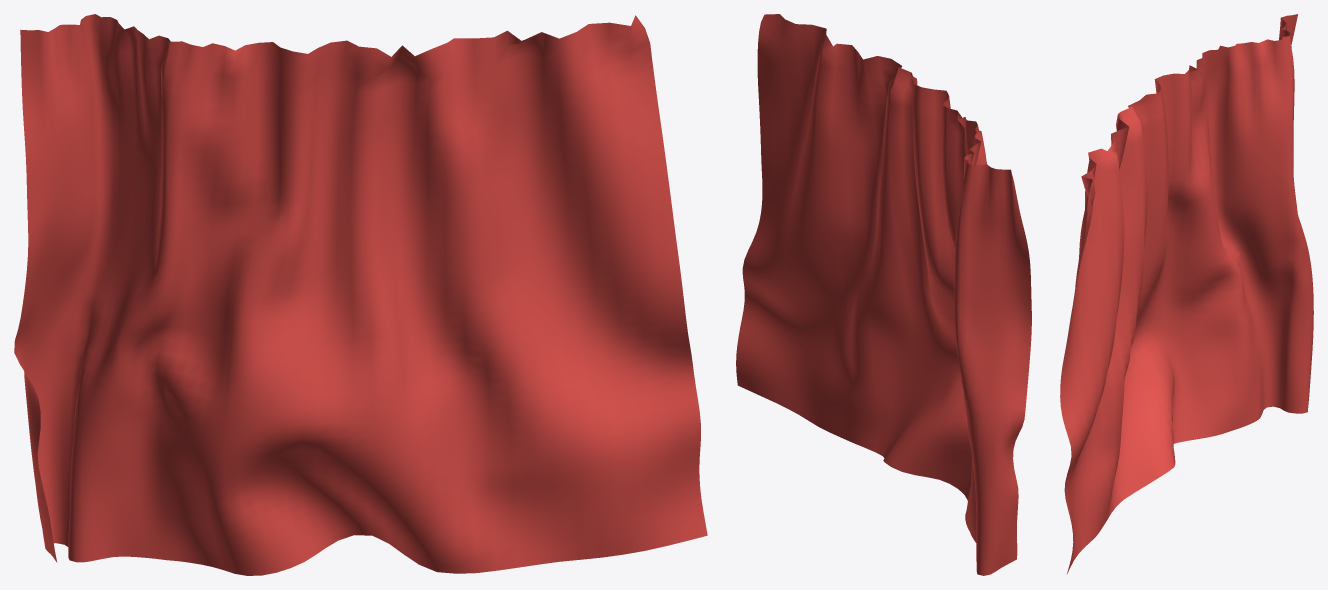
File: ClosedCurtain_Left.fbx
3 views of the same model, side by side, from view 1: azimuth 30°, elevation 25°; view 2: azimuth 150°, elevation 25°; view 3: azimuth 270°, elevation 25° (orthographic). The views are drawn at different scales.
Visible parts, largest first — view 1: DM_LeftCurtain; view 2: DM_LeftCurtain; view 3: DM_LeftCurtain.
Boxes of the visible parts, bbox=[...] form: DM_LeftCurtain: bbox=[14, 14, 707, 575]; DM_LeftCurtain: bbox=[736, 14, 1031, 575]; DM_LeftCurtain: bbox=[1060, 14, 1313, 574].
Size of the model in its own units: 1531 by 1448 by 862.
